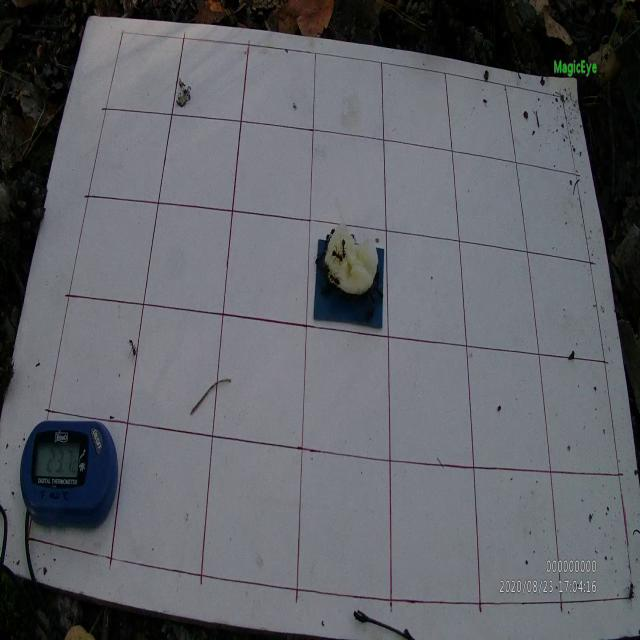Ant: (624, 578, 637, 612), (330, 270, 345, 291), (330, 243, 343, 266), (126, 338, 138, 362), (313, 250, 326, 265), (340, 238, 347, 259)
